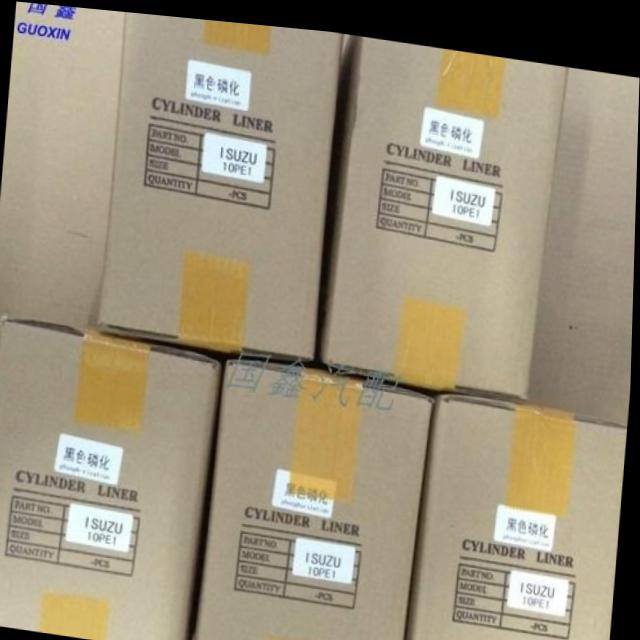box: (320, 30, 574, 390), (95, 9, 341, 362), (0, 319, 226, 640), (192, 356, 434, 640), (408, 389, 628, 640), (0, 1, 123, 333)
